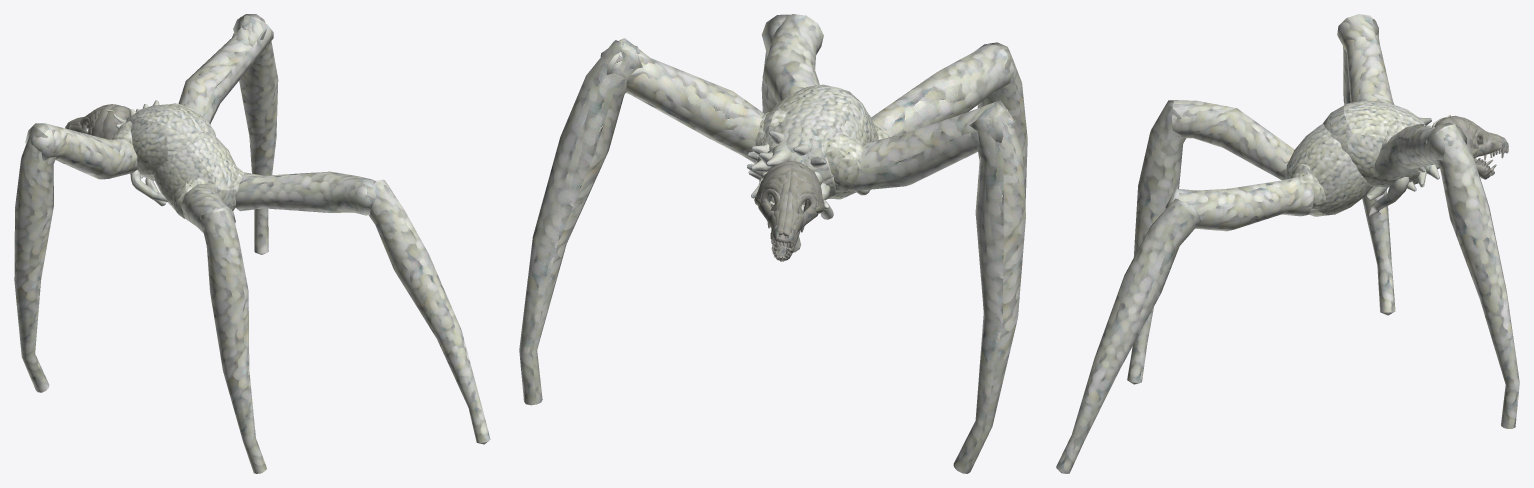
The picture shows the model from 3 angles, left to right: view 1: azimuth 30°, elevation 25°; view 2: azimuth 150°, elevation 25°; view 3: azimuth 270°, elevation 25°; orthographic projection. The views are drawn at different scales.
Parts seen in each view (by area): view 1: Shape_CURVE_Tube_67f84f8d8caa4f16bc02896dd1f6b751, Shape_CURVE_Tube_44cc10bd292346aaa2a0d72e9c8d1f23, Shape_CURVE_Tube_318836c04c5f4e4088371d2290585a3f, Shape_CURVE_Tube_f53c2a8a08c54d4890204f43d5958733, Shape_CURVE_Tube_225b0a9ad82447cea41029f5457bc8d7, Shape_CURVE_Tube_36590ec8ce024c9398439a27f798bd5c, Shape_RR_Sphere_89343d9f57c04e4ebfc89f3940252cf5, Shape_CURVE_Tube_f7a6bf3255c84d64b2f365a48e59db57, Shape_RR_Sphere_21905e9ff74d449da6130b3ced438c97, Shape_CURVE_Tube_85410d5bd31b42e89fea9fa4c3d63a18; view 2: Shape_CURVE_Tube_225b0a9ad82447cea41029f5457bc8d7, Shape_CURVE_Tube_318836c04c5f4e4088371d2290585a3f, Shape_CURVE_Tube_36590ec8ce024c9398439a27f798bd5c, Shape_CURVE_Tube_f7a6bf3255c84d64b2f365a48e59db57, Shape_CURVE_Tube_85410d5bd31b42e89fea9fa4c3d63a18, Shape_RR_Sphere_89343d9f57c04e4ebfc89f3940252cf5, Shape_CURVE_Tube_f53c2a8a08c54d4890204f43d5958733, Shape_CURVE_Tube_44cc10bd292346aaa2a0d72e9c8d1f23, Shape_RR_Sphere_941c31dd096f4f69b8ac29ec89c638a7, Shape_CURVE_Tube_67f84f8d8caa4f16bc02896dd1f6b751, Shape_RR_Sphere_72b0fe53718649a598d6fdfb62624f70; view 3: Shape_CURVE_Tube_67f84f8d8caa4f16bc02896dd1f6b751, Shape_CURVE_Tube_225b0a9ad82447cea41029f5457bc8d7, Shape_CURVE_Tube_44cc10bd292346aaa2a0d72e9c8d1f23, Shape_CURVE_Tube_f53c2a8a08c54d4890204f43d5958733, Shape_CURVE_Tube_85410d5bd31b42e89fea9fa4c3d63a18, Shape_RR_Sphere_89343d9f57c04e4ebfc89f3940252cf5, Shape_RR_Sphere_21905e9ff74d449da6130b3ced438c97, Shape_CURVE_Tube_f7a6bf3255c84d64b2f365a48e59db57, Shape_CURVE_Tube_36590ec8ce024c9398439a27f798bd5c, Shape_CURVE_Tube_318836c04c5f4e4088371d2290585a3f, Shape_CURVE_Tube_e1375554cfe648509813812a24d21488, Shape_RR_Sphere_a84edcaf00ca4fa6b0c4b786223114ac.
Boxes of the visible parts, x1,y1,x2,y2 form: Shape_CURVE_Tube_67f84f8d8caa4f16bc02896dd1f6b751: (368,179,490,444); Shape_CURVE_Tube_44cc10bd292346aaa2a0d72e9c8d1f23: (200,208,266,473); Shape_CURVE_Tube_318836c04c5f4e4088371d2290585a3f: (14,127,56,392); Shape_CURVE_Tube_f53c2a8a08c54d4890204f43d5958733: (235,171,376,215); Shape_CURVE_Tube_225b0a9ad82447cea41029f5457bc8d7: (233,14,278,254); Shape_CURVE_Tube_36590ec8ce024c9398439a27f798bd5c: (178,15,273,124); Shape_RR_Sphere_89343d9f57c04e4ebfc89f3940252cf5: (126,104,215,180); Shape_CURVE_Tube_f7a6bf3255c84d64b2f365a48e59db57: (25,123,137,179); Shape_RR_Sphere_21905e9ff74d449da6130b3ced438c97: (153,135,235,210); Shape_CURVE_Tube_85410d5bd31b42e89fea9fa4c3d63a18: (181,183,235,233); Shape_CURVE_Tube_225b0a9ad82447cea41029f5457bc8d7: (519,40,642,405); Shape_CURVE_Tube_318836c04c5f4e4088371d2290585a3f: (953,107,1025,473); Shape_CURVE_Tube_36590ec8ce024c9398439a27f798bd5c: (600,38,763,163); Shape_CURVE_Tube_f7a6bf3255c84d64b2f365a48e59db57: (834,100,1014,192); Shape_CURVE_Tube_85410d5bd31b42e89fea9fa4c3d63a18: (871,44,1014,137); Shape_RR_Sphere_89343d9f57c04e4ebfc89f3940252cf5: (756,84,871,204); Shape_CURVE_Tube_f53c2a8a08c54d4890204f43d5958733: (762,14,823,103); Shape_CURVE_Tube_44cc10bd292346aaa2a0d72e9c8d1f23: (974,42,1027,205); Shape_RR_Sphere_941c31dd096f4f69b8ac29ec89c638a7: (834,137,862,191); Shape_CURVE_Tube_67f84f8d8caa4f16bc02896dd1f6b751: (761,14,801,252); Shape_RR_Sphere_72b0fe53718649a598d6fdfb62624f70: (825,133,850,175); Shape_CURVE_Tube_67f84f8d8caa4f16bc02896dd1f6b751: (1056,198,1200,473); Shape_CURVE_Tube_225b0a9ad82447cea41029f5457bc8d7: (1425,124,1519,428); Shape_CURVE_Tube_44cc10bd292346aaa2a0d72e9c8d1f23: (1127,100,1186,384); Shape_CURVE_Tube_f53c2a8a08c54d4890204f43d5958733: (1165,177,1313,231); Shape_CURVE_Tube_85410d5bd31b42e89fea9fa4c3d63a18: (1172,100,1294,180); Shape_RR_Sphere_89343d9f57c04e4ebfc89f3940252cf5: (1322,100,1424,187); Shape_RR_Sphere_21905e9ff74d449da6130b3ced438c97: (1285,124,1372,216); Shape_CURVE_Tube_f7a6bf3255c84d64b2f365a48e59db57: (1337,14,1394,104); Shape_CURVE_Tube_36590ec8ce024c9398439a27f798bd5c: (1374,122,1466,180); Shape_CURVE_Tube_318836c04c5f4e4088371d2290585a3f: (1343,19,1395,315); Shape_CURVE_Tube_e1375554cfe648509813812a24d21488: (1368,177,1409,216); Shape_RR_Sphere_a84edcaf00ca4fa6b0c4b786223114ac: (1290,173,1326,210).
Size of the model in its own units: 4.75 by 4.36 by 5.52.
3 materials, 3 textured.
